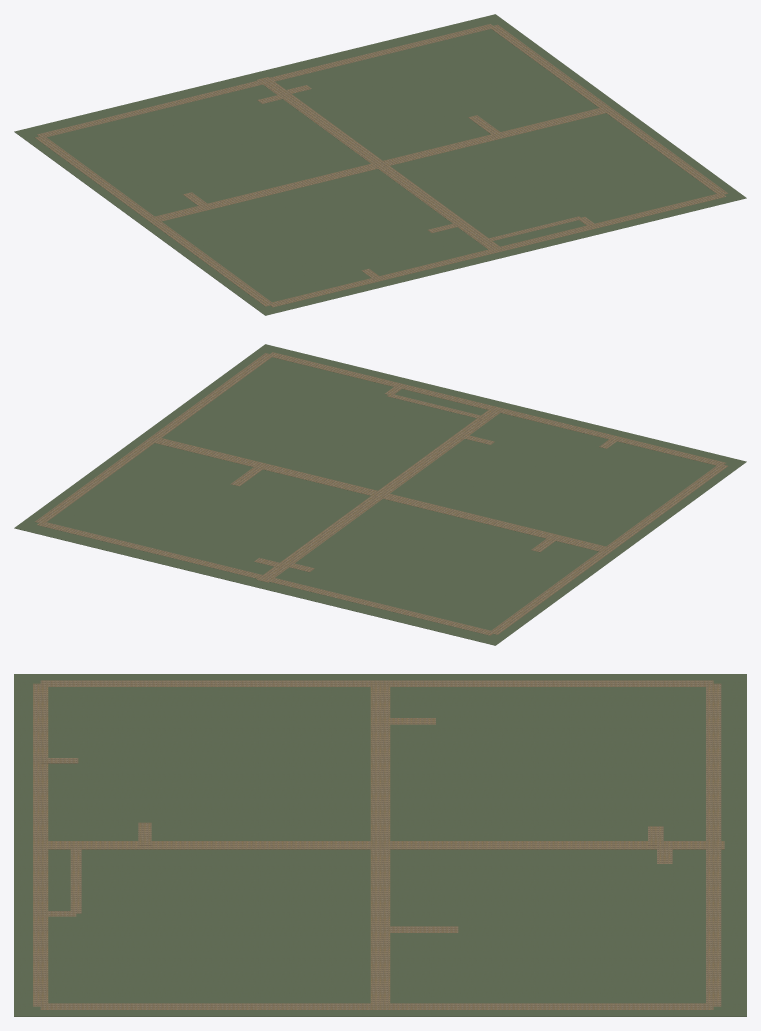
The model's file is connected_world_collision.glb.
3 views of the same model, one above another, from view 1: azimuth 30°, elevation 25°; view 2: azimuth 150°, elevation 25°; view 3: azimuth 270°, elevation 25° (orthographic). The views are drawn at different scales.
Visible parts, largest first — view 1: COL_World_Ground, COL_Connected_Walkways; view 2: COL_World_Ground, COL_Connected_Walkways; view 3: COL_World_Ground, COL_Connected_Walkways.
Part boxes in pixels (x1,y1,x2,y2): COL_World_Ground: (14,14,746,315); COL_Connected_Walkways: (35,24,727,307); COL_World_Ground: (14,344,746,645); COL_Connected_Walkways: (35,352,727,635); COL_World_Ground: (14,674,746,1016); COL_Connected_Walkways: (33,680,724,1009).
Bounding box in the file's own units: 365 × 0.253 × 330.
2 materials, 2 textured.
